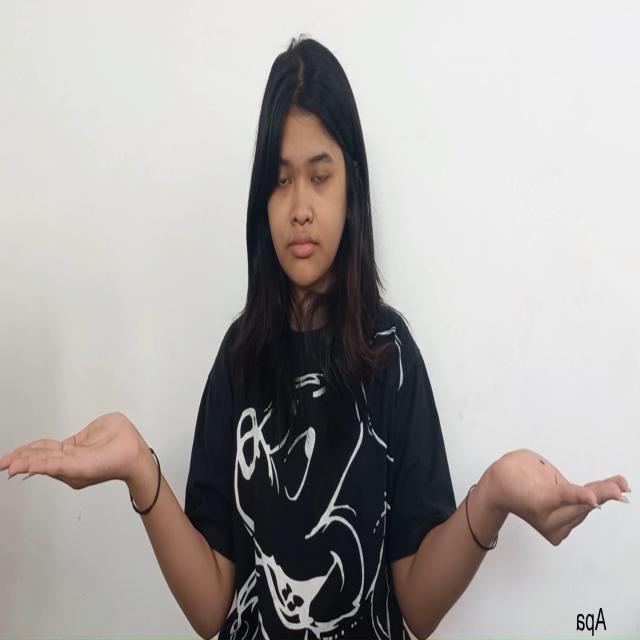Apa -BISINDO-: (0, 410, 631, 550)
